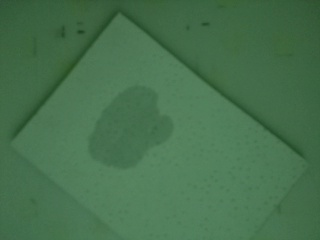Water_detected: (101, 95, 164, 163)
